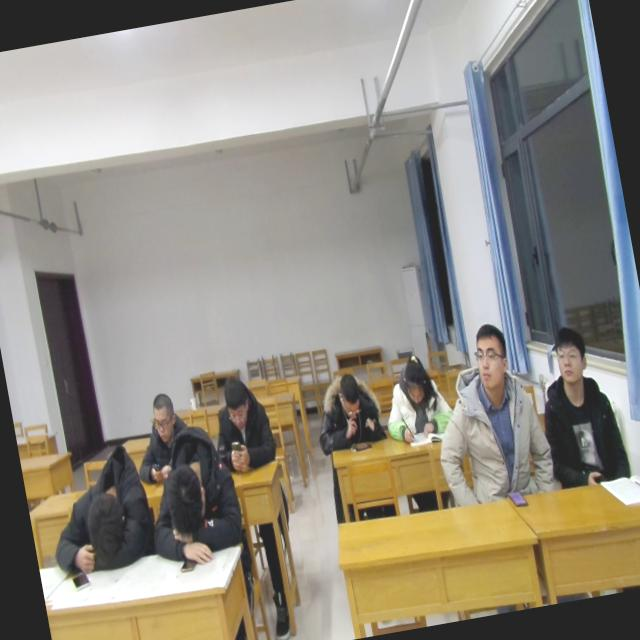bow: (135, 426, 252, 575), (37, 440, 165, 574)
down: (544, 317, 596, 390), (394, 348, 432, 408), (216, 371, 252, 433), (146, 386, 180, 446), (330, 366, 366, 418)
lookup: (468, 316, 516, 396)
sit: (418, 317, 558, 508), (530, 324, 628, 488), (202, 364, 282, 480), (126, 384, 209, 486), (304, 358, 390, 456), (378, 352, 460, 444)
